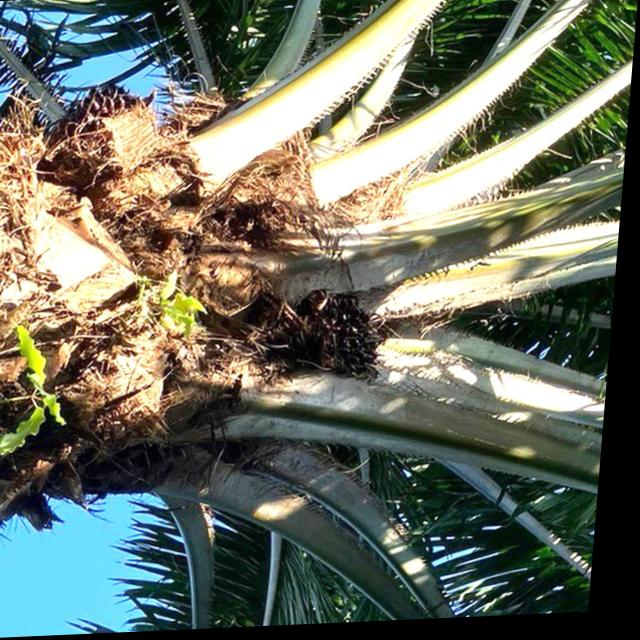ripe: (266, 283, 411, 400)
